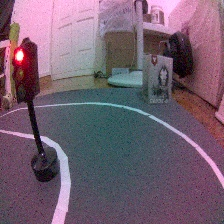red: (12, 37, 61, 183)
